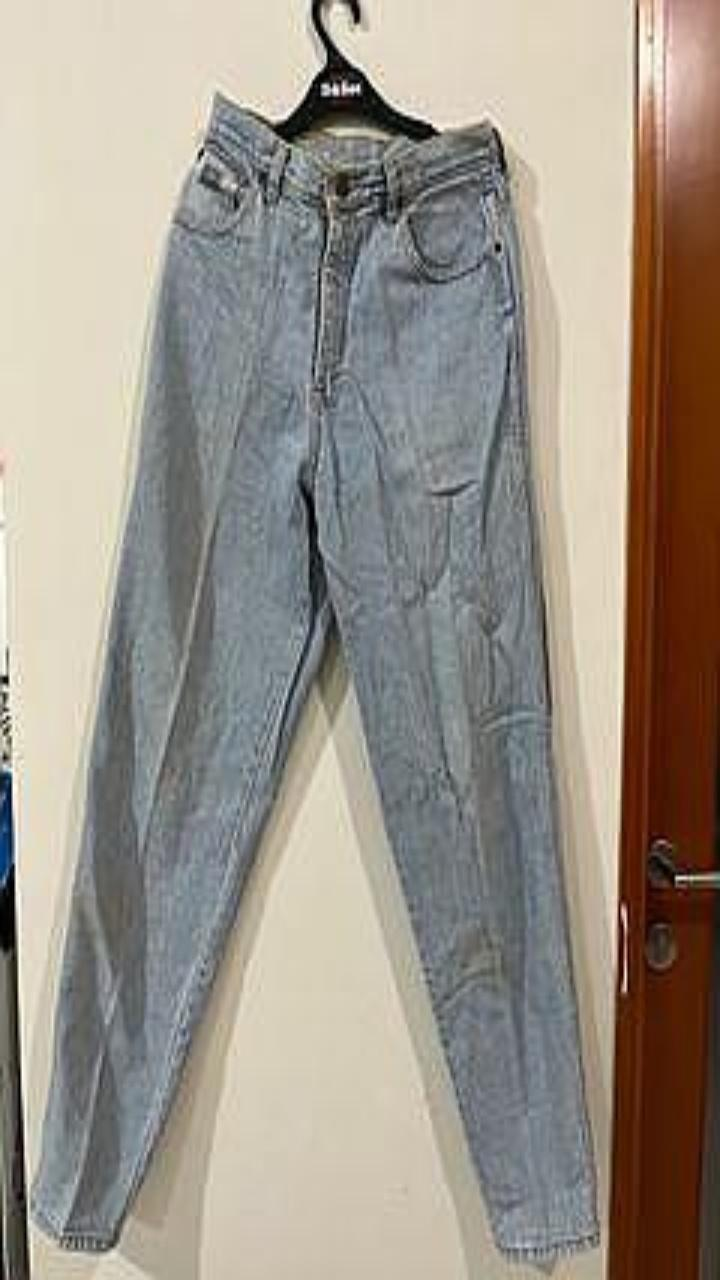Jeans: (31, 91, 598, 1267)
